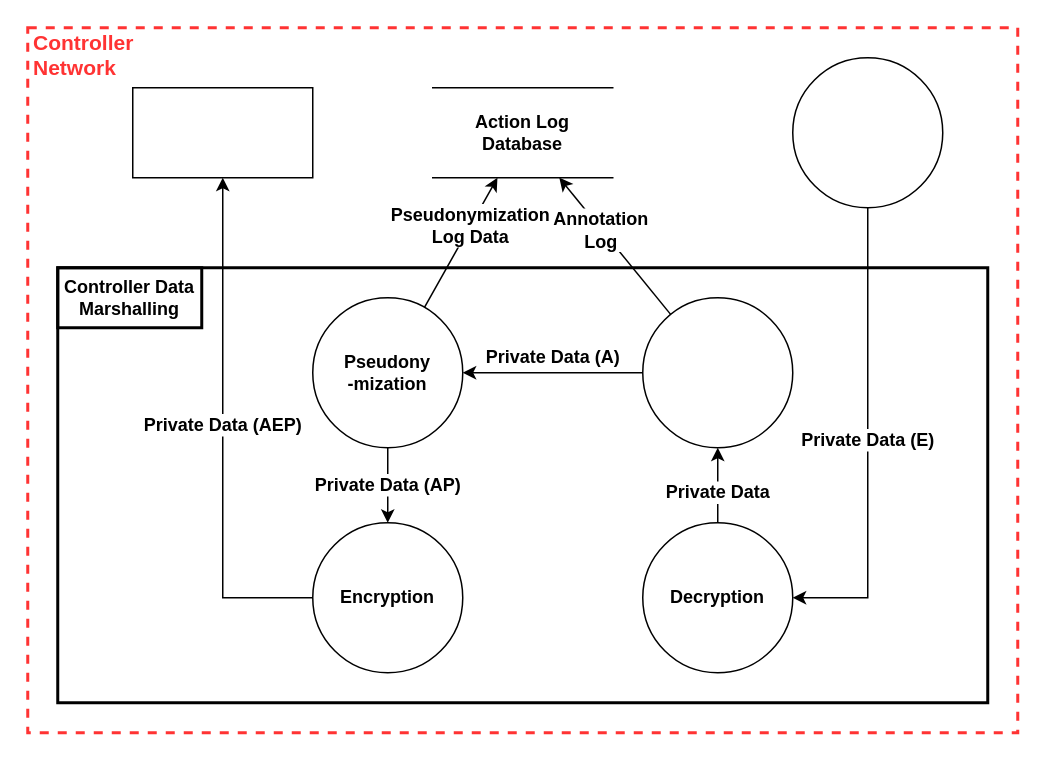
Image size: 1044x759. Some labels were removed from this diagram. Each missing label, with the centre of its shape:
"Annotation" belongs at [717,372].
"Controller Data Store" belongs at [222,132].
"Data Sanitization & Validation" belongs at [867,132].
